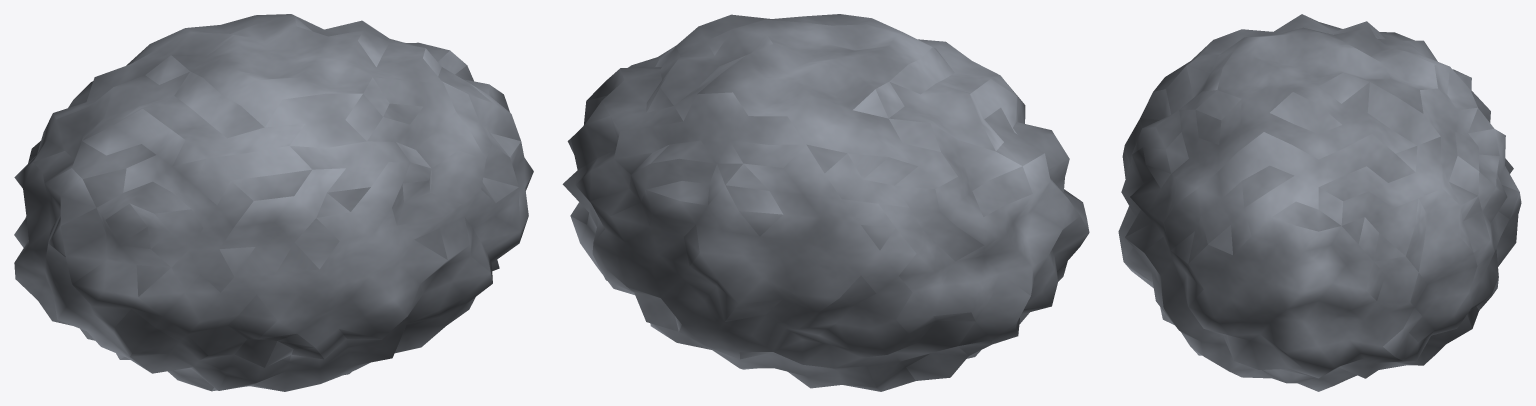
The model's file is rock.glb.
3 views of the same model, side by side, from view 1: azimuth 30°, elevation 25°; view 2: azimuth 150°, elevation 25°; view 3: azimuth 270°, elevation 25° (orthographic). The views are drawn at different scales.
Visible parts, largest first — view 1: rock; view 2: rock; view 3: rock.
Boxes of the visible parts, x1=… form: rock: x1=14, y1=14, x2=533, y2=391; rock: x1=562, y1=14, x2=1089, y2=391; rock: x1=1118, y1=14, x2=1521, y2=391.
Size of the model in its own units: 1.64 by 1.07 by 1.3.
Materials: 1 (1 with a texture image).
